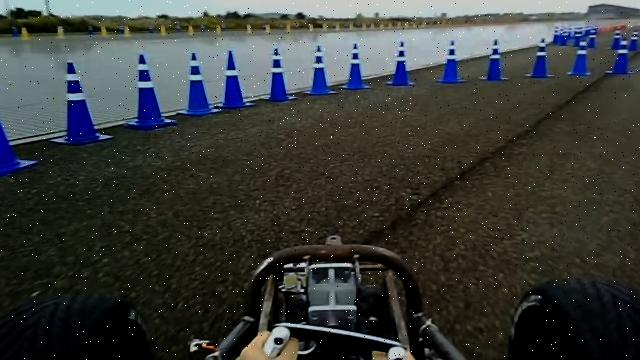blue cone: (49, 61, 113, 145), (123, 53, 177, 130), (0, 79, 37, 177), (176, 52, 222, 116), (213, 50, 256, 108), (261, 46, 297, 101), (302, 44, 338, 95), (339, 42, 372, 90), (386, 41, 416, 86)
